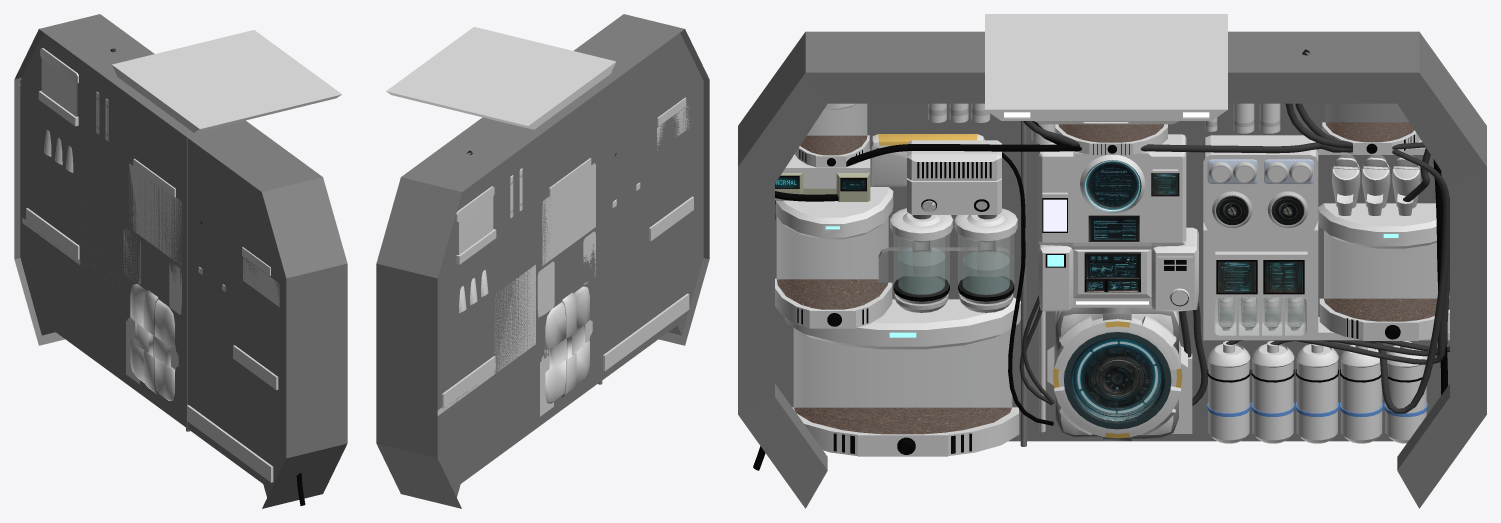
File: CapstoneSpaceshipINSIDE_air.fbx
3 views of the same model, side by side, from view 1: azimuth 30°, elevation 25°; view 2: azimuth 150°, elevation 25°; view 3: azimuth 270°, elevation 25° (orthographic). The views are drawn at different scales.
Parts seen in each view (by area): view 1: Cube.022, Cube.062, Cube, Cube.023, Cylinder.025, Cylinder.016, Cube.025, Cube.024, Cylinder.026, Cylinder.024, Cylinder.036, Cylinder.017 (+1 smaller); view 2: Cube.022, Cube.062, Cube, Cube.023, Cube.060, Cylinder.025, Cylinder.016, Cube.025, Cylinder.036, Cylinder.026, Cylinder.024, Cube.050 (+2 smaller); view 3: Cube.022, Cylinder.016, Cube.062, Cylinder.026, Cylinder.024, Circle.003, Cube.023, Cube.060, Cube.028, Cube.025, Cube.042, Cylinder.012 (+44 smaller).
Boxes of the visible parts, <box> form: Cube.022: <box>14,14,347,508</box>; Cube.062: <box>112,30,341,132</box>; Cube: <box>130,284,174,400</box>; Cube.023: <box>128,163,181,265</box>; Cylinder.025: <box>38,48,78,126</box>; Cylinder.016: <box>187,405,273,482</box>; Cube.025: <box>123,228,181,314</box>; Cube.024: <box>243,257,279,306</box>; Cylinder.026: <box>26,208,79,259</box>; Cylinder.024: <box>233,345,278,389</box>; Cylinder.036: <box>186,137,189,431</box>; Cylinder.017: <box>133,158,175,197</box>; Cube.022: <box>376,14,709,508</box>; Cube.062: <box>386,27,616,129</box>; Cube: <box>545,286,589,403</box>; Cube.023: <box>542,163,595,265</box>; Cube.060: <box>494,264,535,374</box>; Cylinder.025: <box>456,186,496,264</box>; Cylinder.016: <box>603,293,689,371</box>; Cube.025: <box>537,231,595,317</box>; Cylinder.036: <box>598,90,602,384</box>; Cylinder.026: <box>442,356,495,407</box>; Cylinder.024: <box>649,196,693,241</box>; Cube.050: <box>540,355,553,416</box>; Cube.022: <box>738,31,1486,508</box>; Cylinder.016: <box>784,297,1020,456</box>; Cube.062: <box>985,14,1227,124</box>; Cylinder.026: <box>1318,203,1449,340</box>; Cylinder.024: <box>775,187,893,328</box>; Circle.003: <box>1047,315,1187,438</box>; Cube.023: <box>1038,134,1186,307</box>; Cube.060: <box>1203,221,1318,340</box>; Cube.028: <box>907,140,1001,214</box>; Cube.025: <box>1038,227,1198,311</box>; Cube.042: <box>878,247,1011,299</box>; Cylinder.012: <box>1207,341,1250,443</box>.
Bounding box in the file's own units: 152 × 330 × 491.
